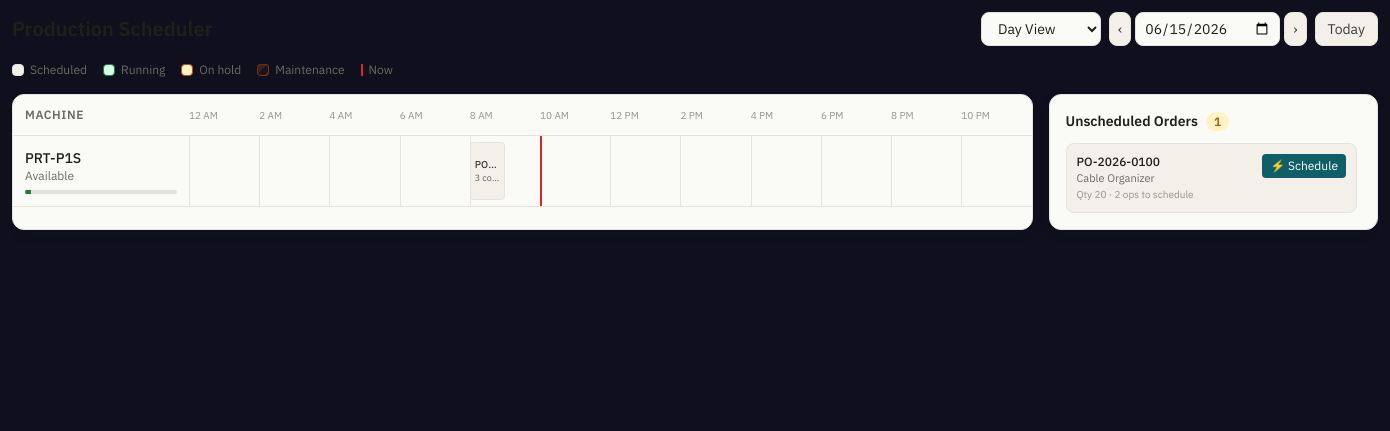
it: SchedulerBoard › co-booked operations (print-batch S4) › restores focus to the block when the list is closed
Click the button with test id "gantt-block-31".
click(487, 171)  # box x1=470 y1=142 x2=505 y2=200
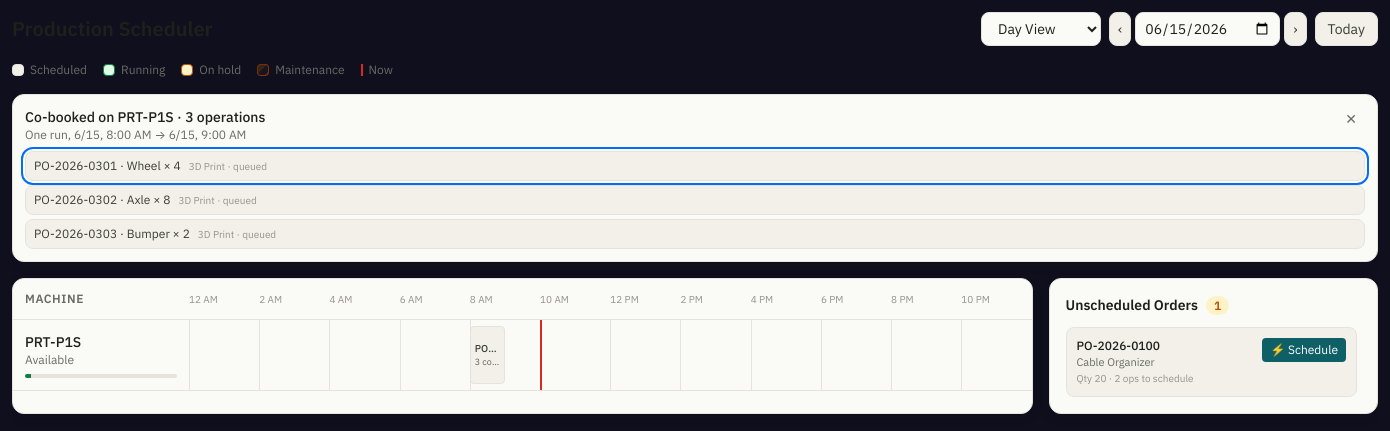
Click the button named "Close member list".
click(1351, 119)  # box x1=1337 y1=107 x2=1365 y2=131
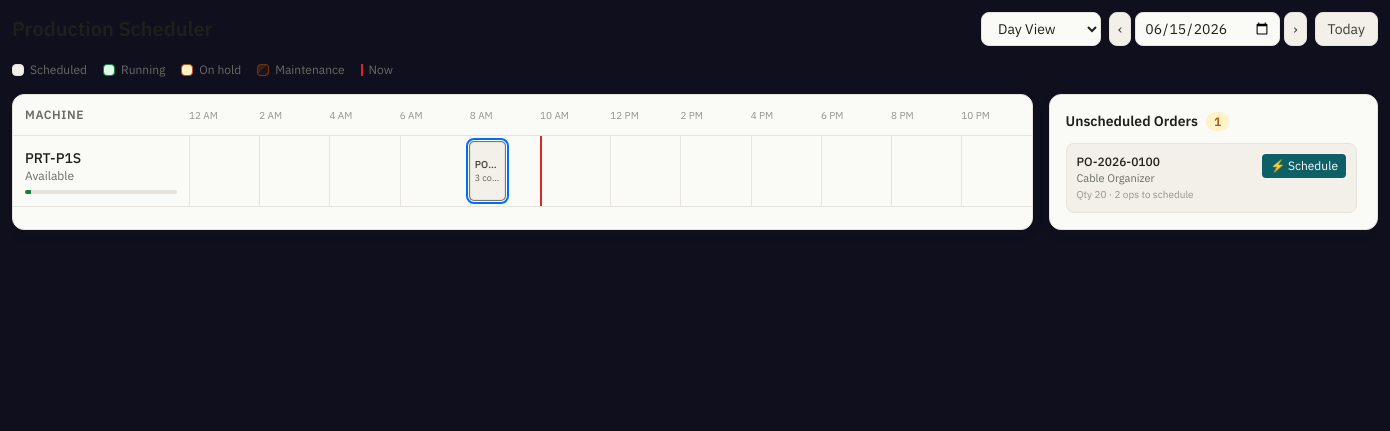
Now the element with test id "cobooked-members" is gone
